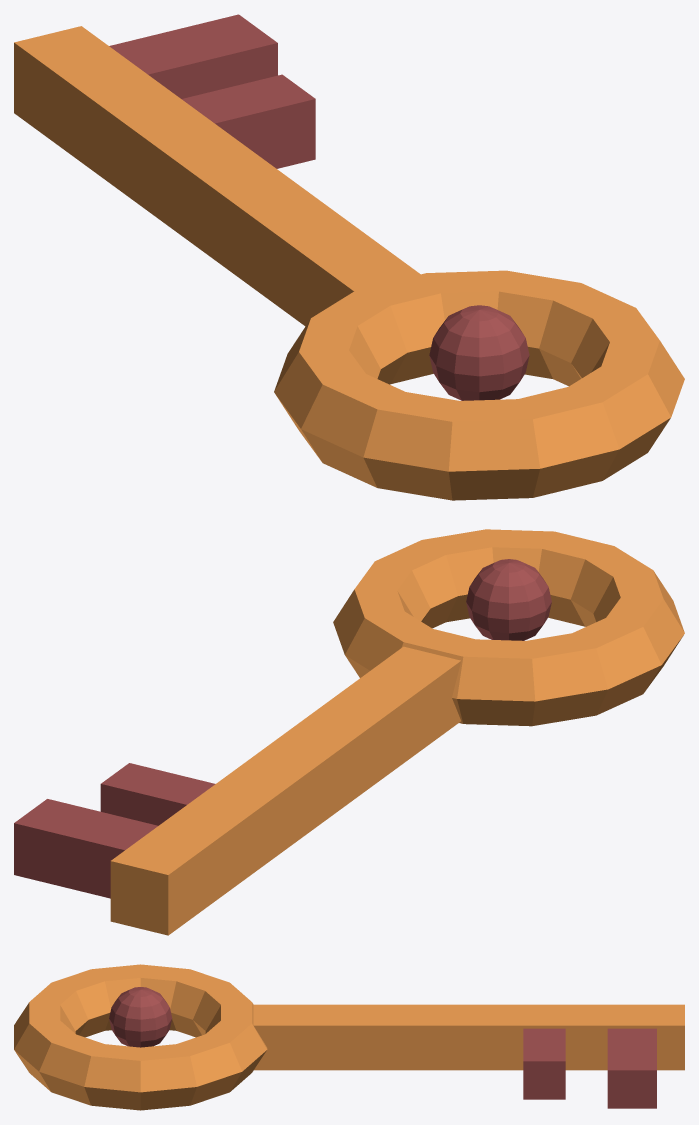
File: inferno_held.gltf
3 renders of one model, top to bottom at view 1: azimuth 30°, elevation 25°; view 2: azimuth 150°, elevation 25°; view 3: azimuth 270°, elevation 25°, orthographic. The views are drawn at different scales.
Visible parts, largest first — view 1: keys_inferno_held; view 2: keys_inferno_held; view 3: keys_inferno_held.
Boxes of the visible parts, bbox=[...] form: keys_inferno_held: bbox=[14, 14, 684, 500]; keys_inferno_held: bbox=[14, 529, 684, 935]; keys_inferno_held: bbox=[14, 964, 684, 1110].
Bounding box in the file's own units: 0.074 × 0.0228 × 0.1911.
